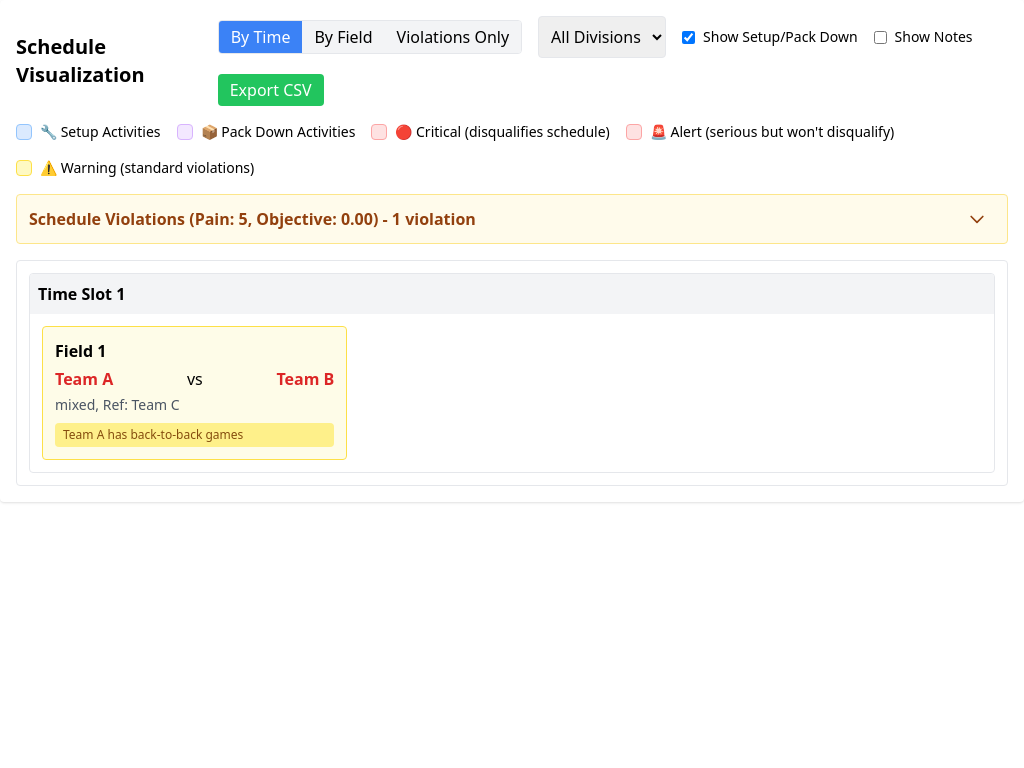
Test: ScheduleVisualization › shows a violations-only view mode in the visualization
This screenshot has width=1024, height=768.
Step 1. Click the button "Violations Only" → click(453, 37), box [385,21,521,53]
(page scrolled)
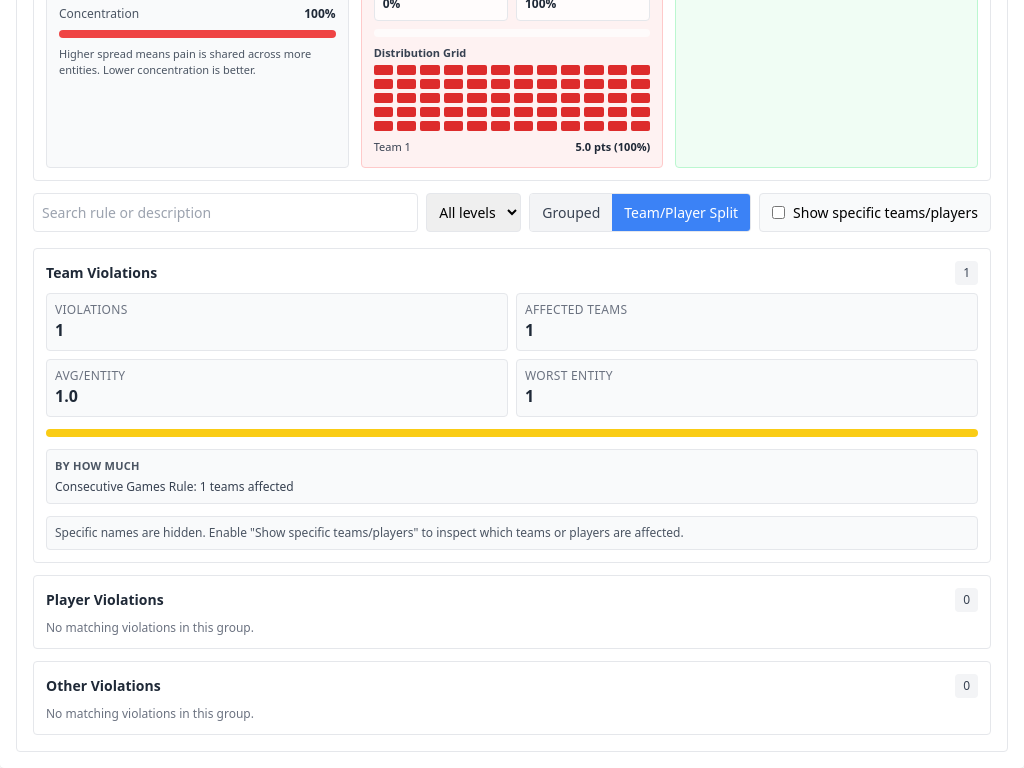
Expected: the text "Affected Teams" is shown, [525,301,627,318]
Expected: the text "Specific names are hidden." is shown, [55,524,684,540]
Expected: the text "Team A has back-to-back games" is gone
